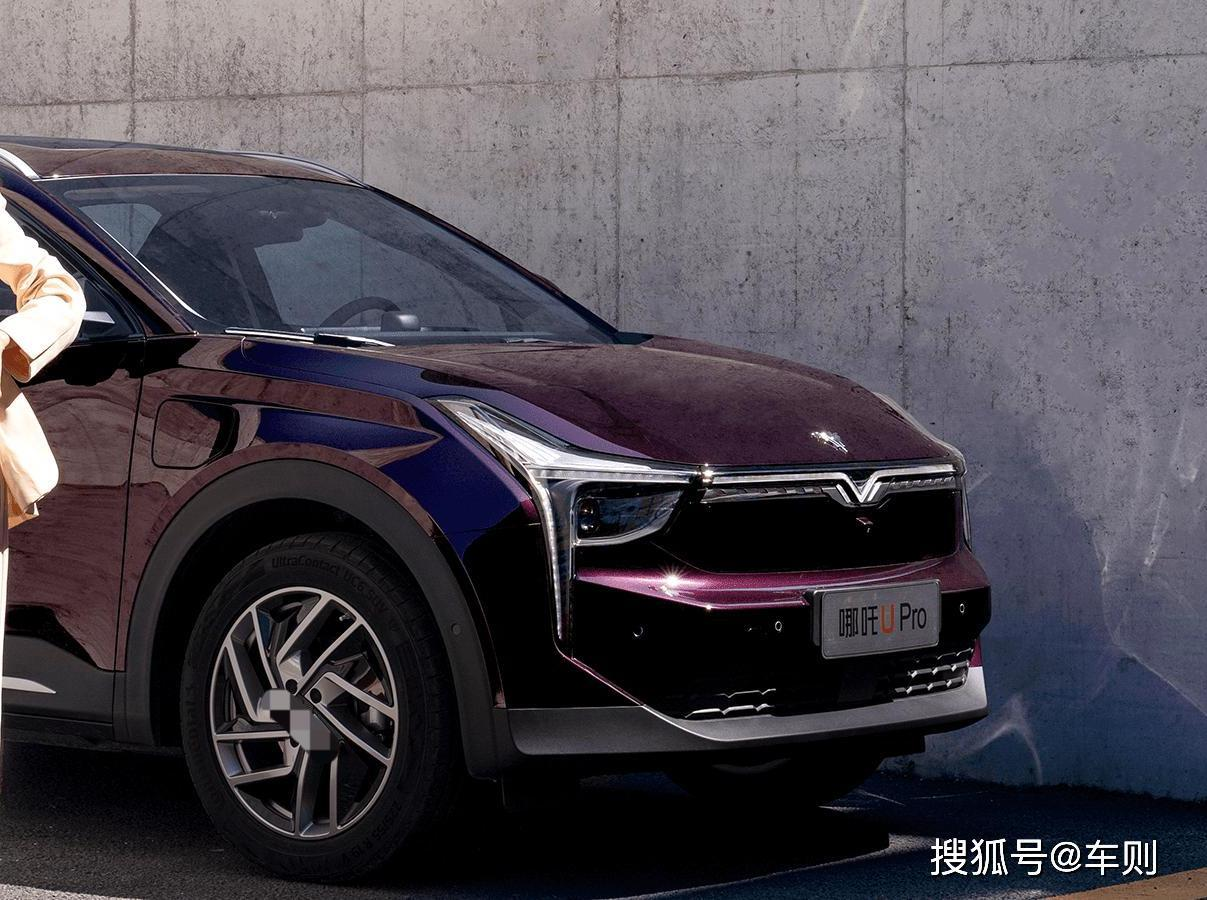NETA: (808, 428, 848, 457)
